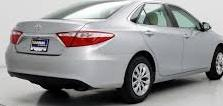Cars: (6, 2, 223, 103)
